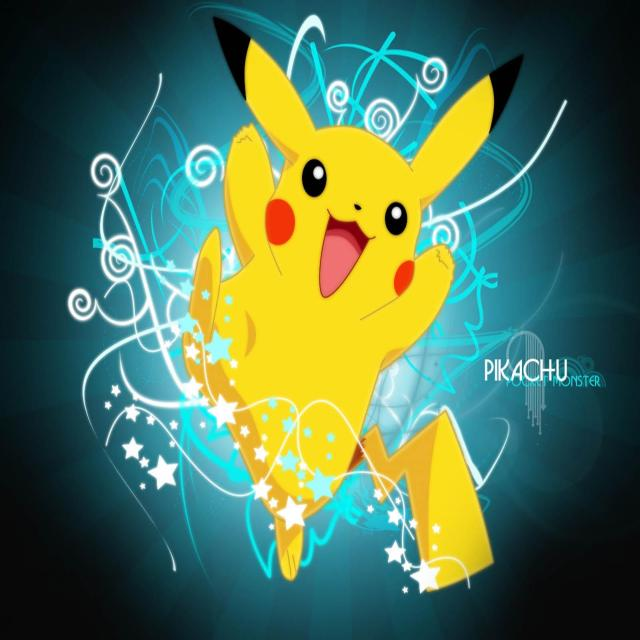pikachu: (183, 18, 524, 588)
